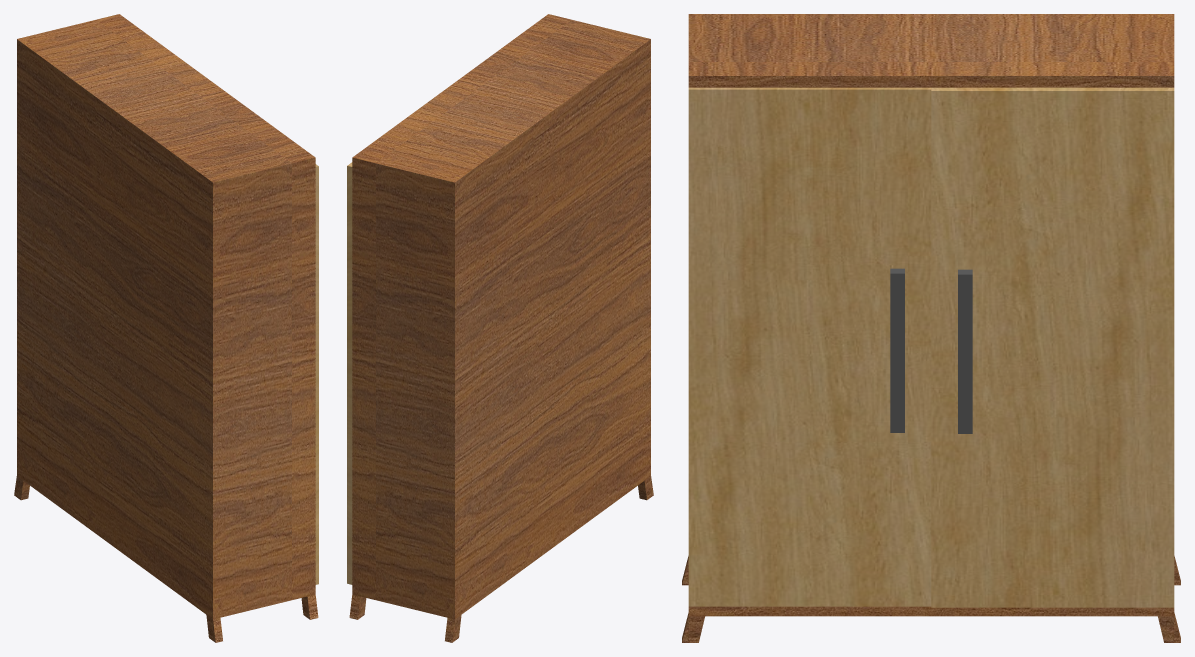
The model's file is Guarda_Roupa.fbx.
The picture shows the model from 3 angles, left to right: view 1: azimuth 30°, elevation 25°; view 2: azimuth 150°, elevation 25°; view 3: azimuth 270°, elevation 25°; orthographic projection. The views are drawn at different scales.
Visible parts, largest first — view 1: Armario, Porta_Aberta; view 2: Armario, Porta_Fechada; view 3: Porta_Fechada, Porta_Aberta, Armario.
Boxes of the visible parts, x1,y1,x2,y2 form: Armario: (14,14,318,642); Porta_Aberta: (315,164,318,584); Armario: (349,14,653,642); Porta_Fechada: (347,162,352,584); Porta_Fechada: (931,87,1174,607); Porta_Aberta: (688,87,931,606); Armario: (682,14,1180,642).
Bounding box in the file's own units: 121 × 456 × 364.
